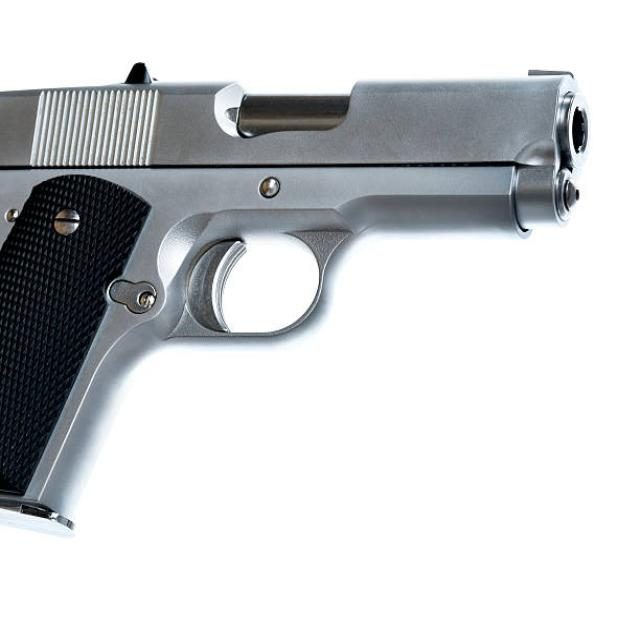pistol: (1, 60, 595, 545)
